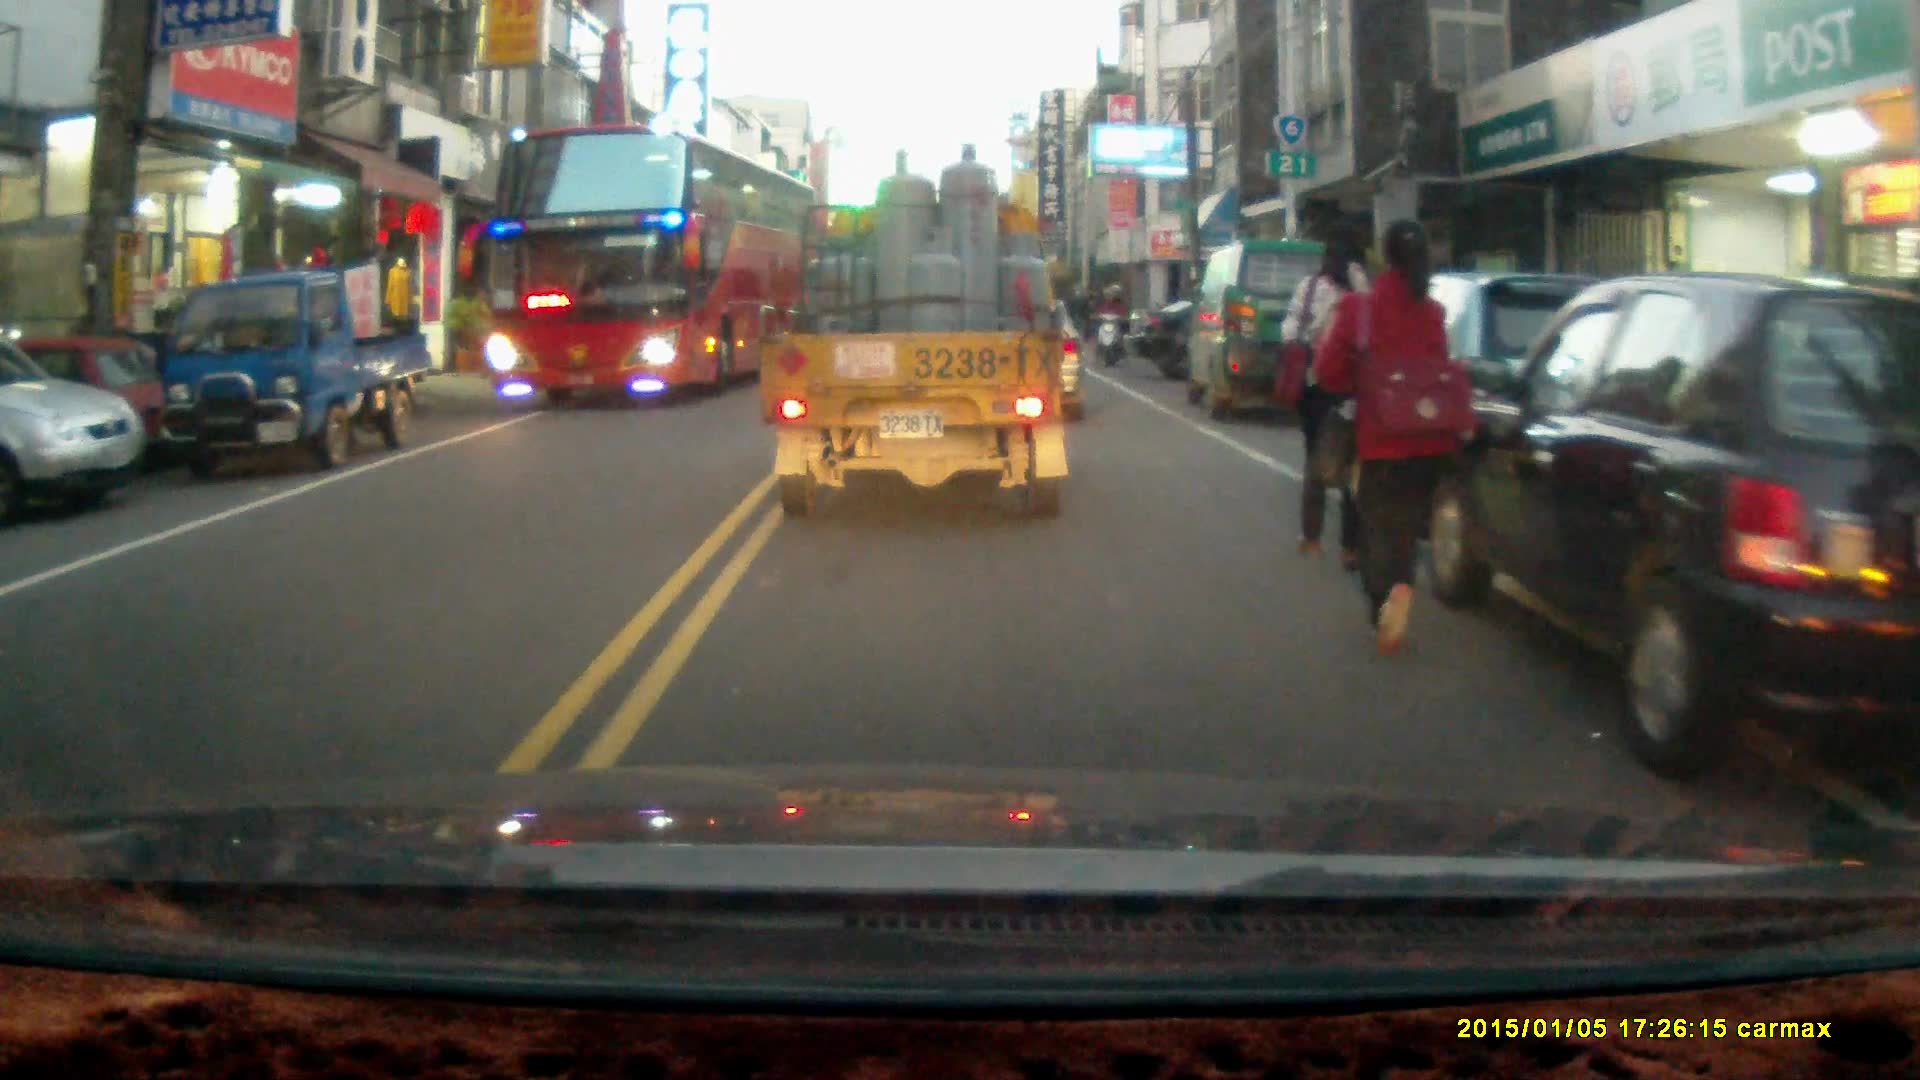pedestrian: (1318, 214, 1462, 661), (1280, 215, 1397, 577)
rider: (1092, 280, 1132, 368)
vehicle: (1430, 270, 1920, 776), (755, 142, 1077, 521), (481, 122, 817, 412), (150, 274, 432, 470), (1193, 236, 1369, 422), (1, 327, 145, 521), (487, 1061, 507, 1080)
